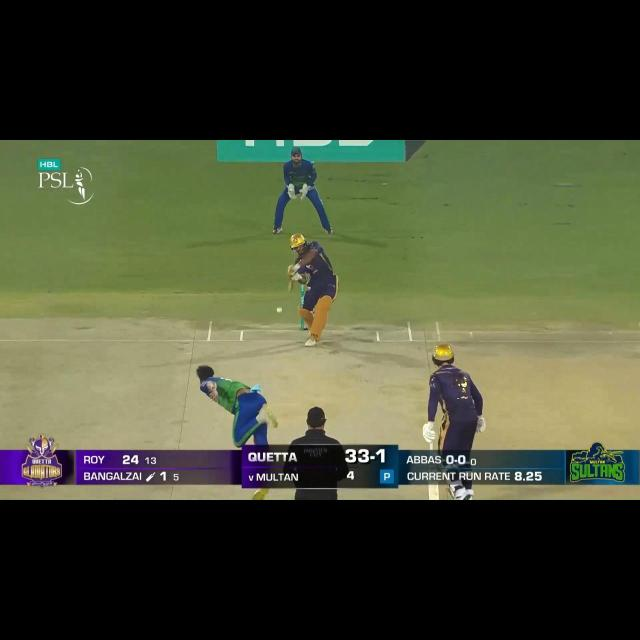bat: (427, 483, 440, 500), (286, 276, 294, 296)
toe: (426, 495, 443, 500)
